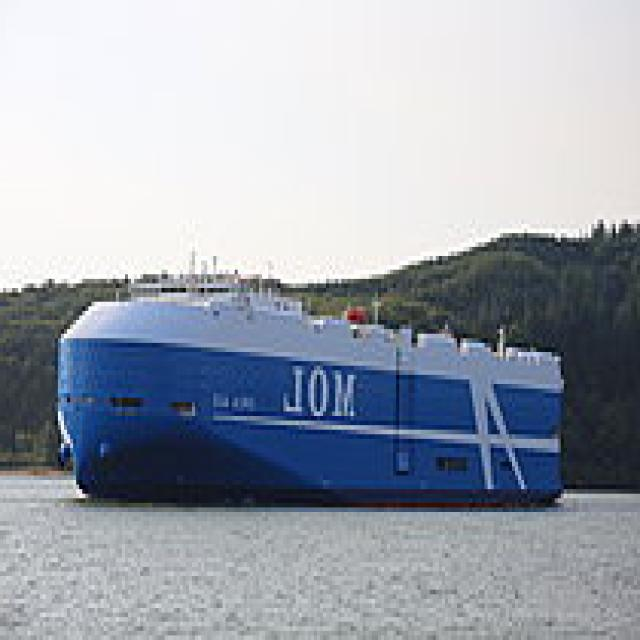Carrier: (55, 247, 570, 507)
